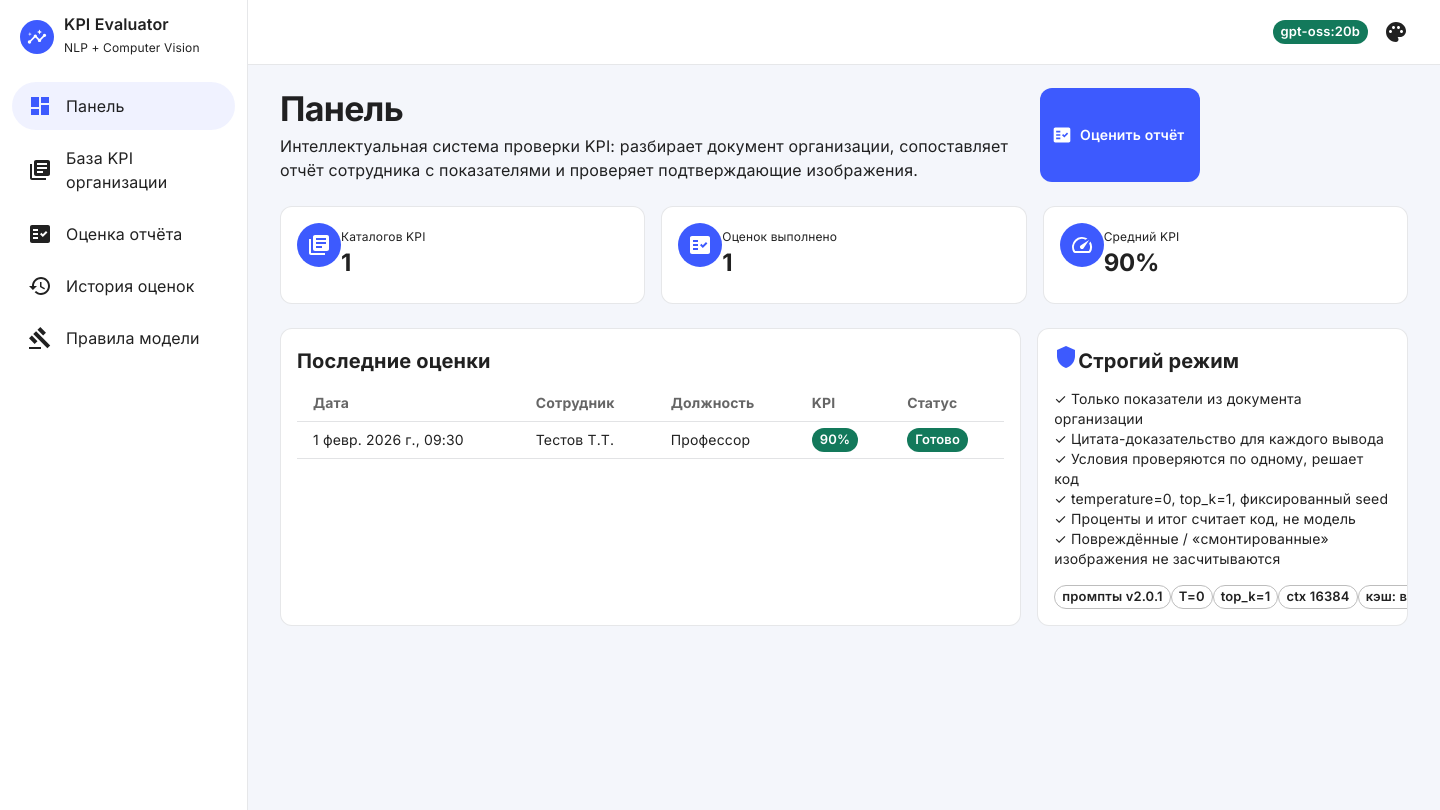
it: навигация и панель › меню ведёт на страницу правил модели с текстами промптов
Click the link "Правила модели".
click(114, 338)  # box left=28, top=326, right=200, bottom=350
(page scrolled)
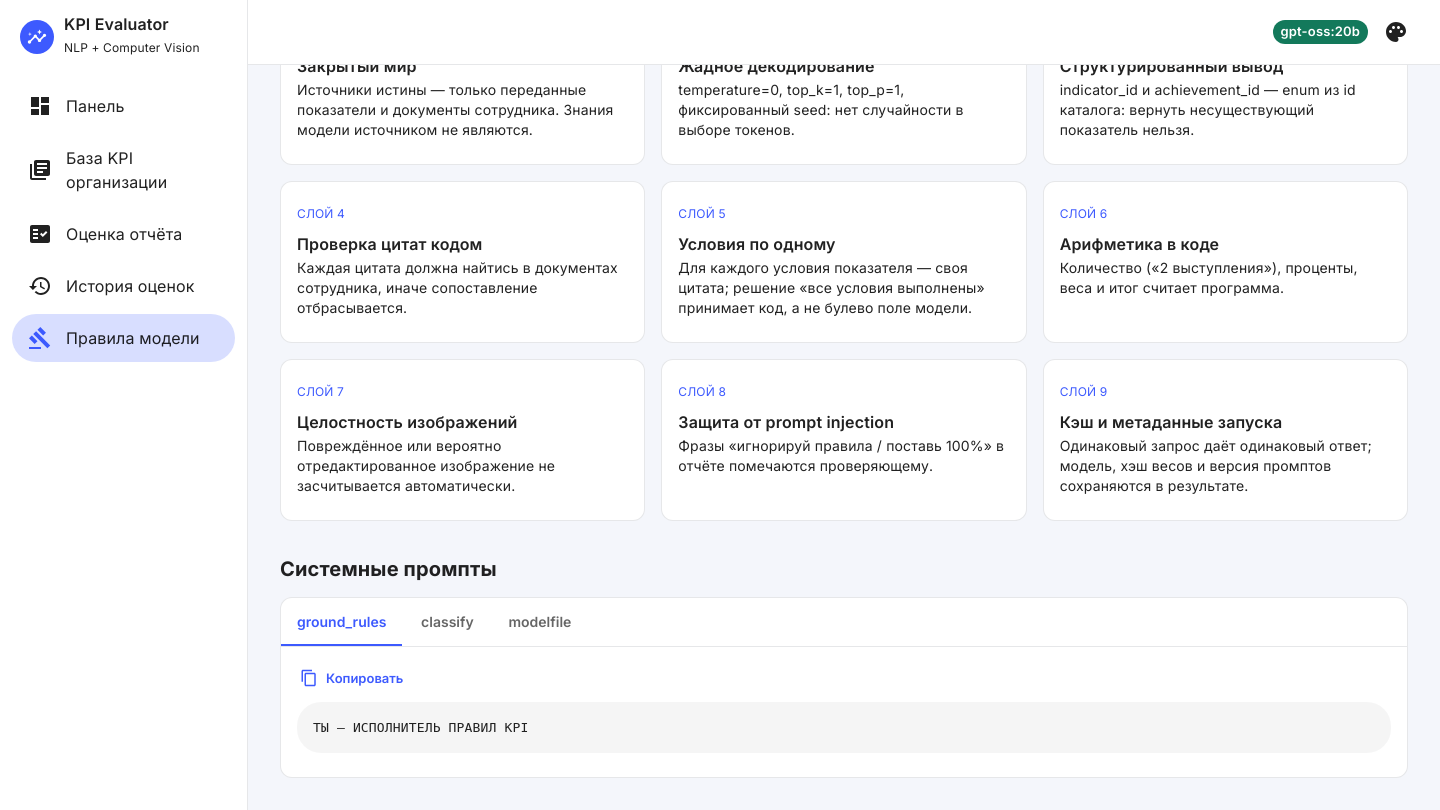
Result: the text with test id "prompt-text" reads "ТЫ — ИСПОЛНИТЕЛЬ ПРАВИЛ KPI" at left=313, top=720, right=528, bottom=735
Click the tab "classify".
click(447, 622)  # box left=402, top=598, right=492, bottom=646
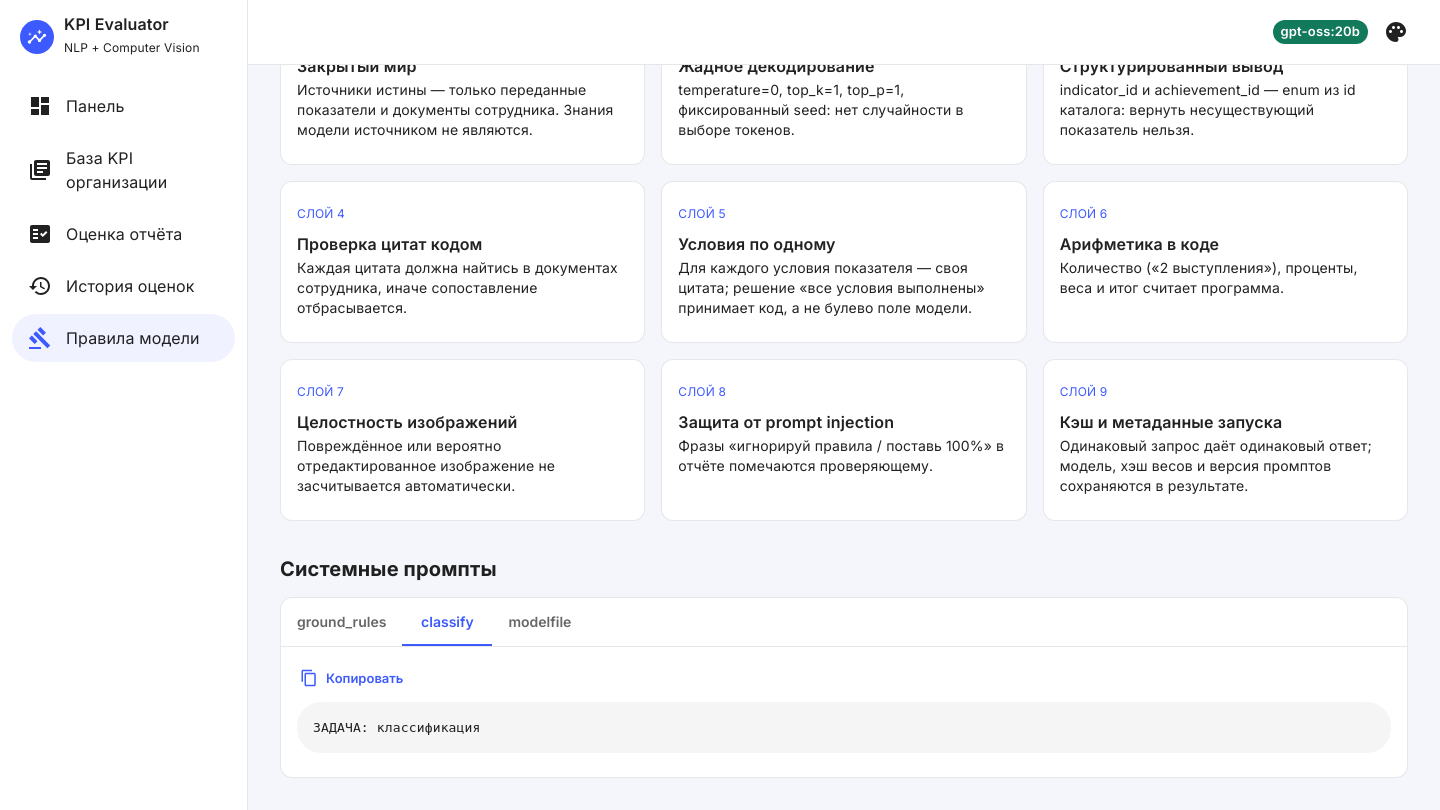
Result: the text with test id "prompt-text" reads "ЗАДАЧА: классификация" at left=313, top=720, right=480, bottom=735
Click the tab "modelfile".
click(540, 622)  # box left=492, top=598, right=587, bottom=646
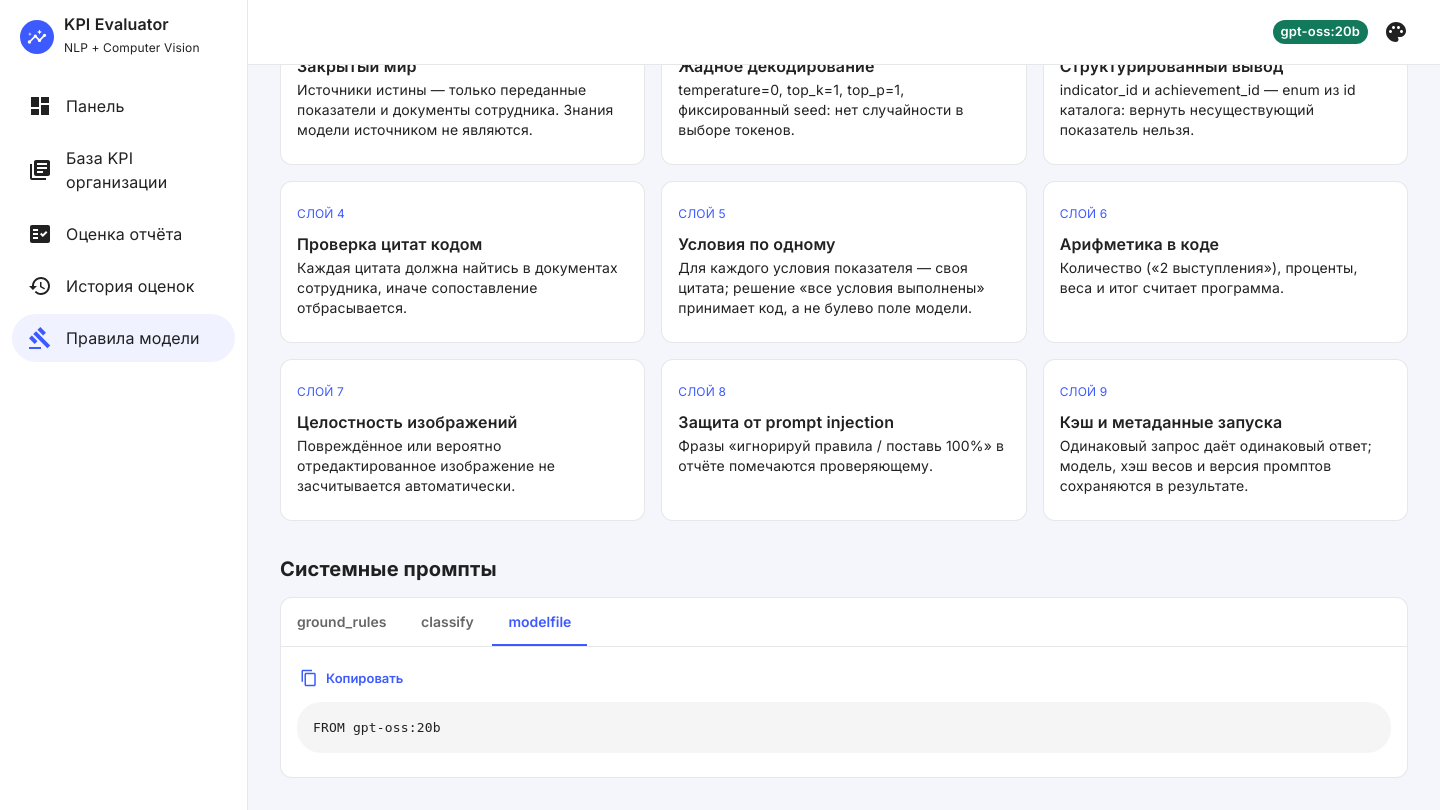
Result: the text with test id "prompt-text" reads "FROM gpt-oss:20b" at left=313, top=720, right=441, bottom=735
